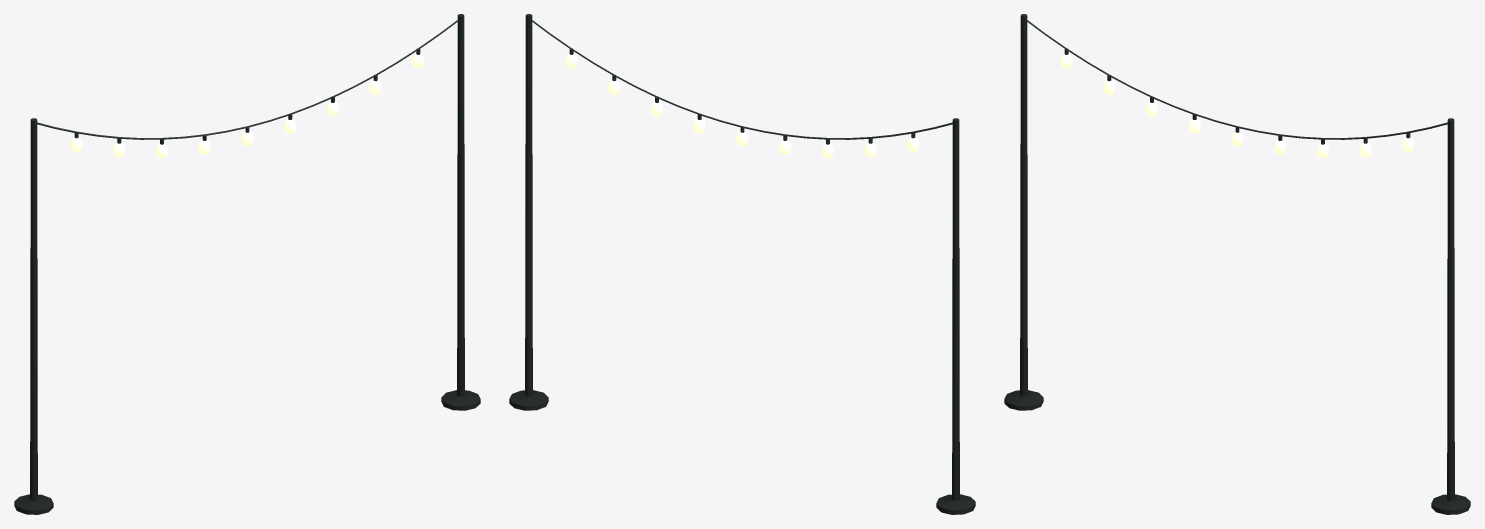
The model's file is day-den.glb.
3 views of the same model, side by side, from view 1: azimuth 30°, elevation 25°; view 2: azimuth 150°, elevation 25°; view 3: azimuth 330°, elevation 25° (orthographic).
Visible parts, largest first — view 1: day-den; view 2: day-den; view 3: day-den.
Boxes of the visible parts, x1,y1,x2,y2 form: day-den: (14, 14, 480, 514); day-den: (509, 14, 975, 514); day-den: (1004, 14, 1470, 514).
Bounding box in the file's own units: 3.24 × 2.6 × 0.2283.
